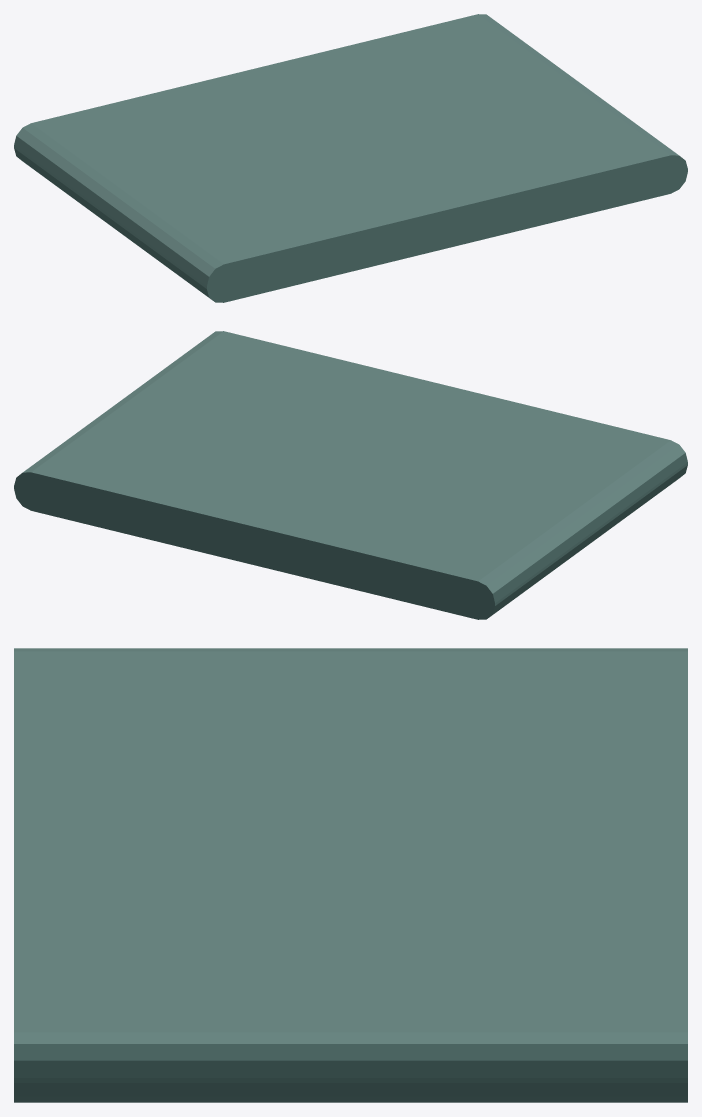
Rendered from Spring_PadOff.gltf.
The picture shows the model from 3 angles, top to bottom: view 1: azimuth 30°, elevation 25°; view 2: azimuth 150°, elevation 25°; view 3: azimuth 270°, elevation 25°; orthographic projection. The views are drawn at different scales.
Visible parts, largest first — view 1: Spring_PadOff_baked; view 2: Spring_PadOff_baked; view 3: Spring_PadOff_baked.
Boxes of the visible parts, box(x1,y1,x2,y2) form: Spring_PadOff_baked: box(14, 14, 687, 302); Spring_PadOff_baked: box(14, 331, 687, 619); Spring_PadOff_baked: box(14, 648, 687, 1102).
Size of the model in its own units: 0.72 by 0.055 by 0.5.
